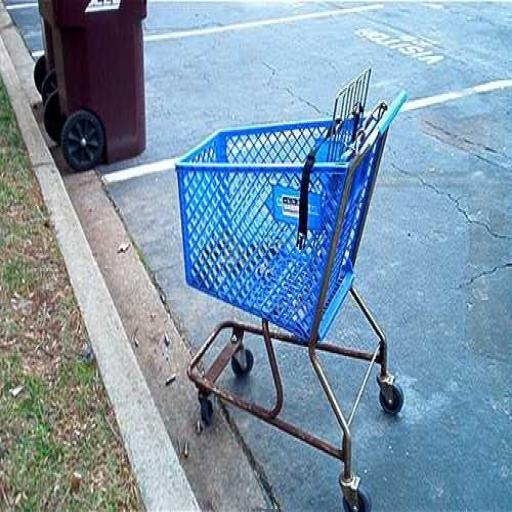shopping_cart: (173, 67, 415, 511)
